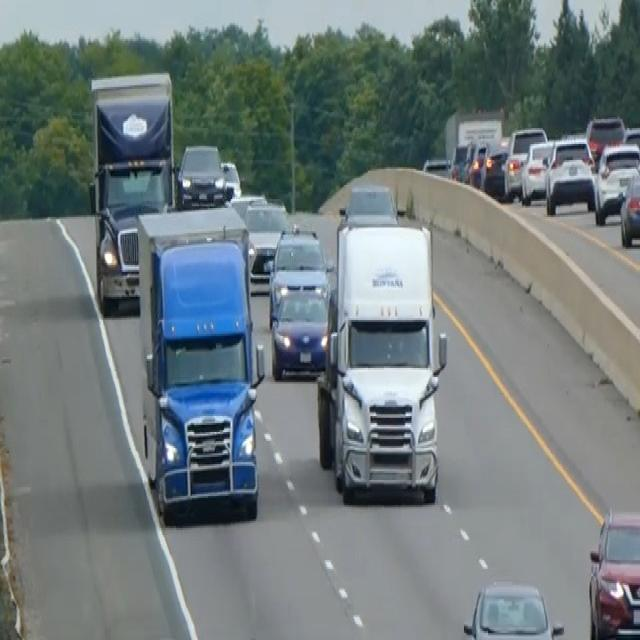car: (267, 222, 333, 380), (587, 505, 639, 638), (462, 576, 564, 638), (544, 135, 596, 215), (244, 197, 288, 290), (593, 140, 639, 224), (175, 140, 228, 208), (503, 125, 547, 199), (337, 180, 398, 230), (519, 138, 554, 204), (585, 112, 625, 162), (480, 137, 510, 197), (619, 171, 639, 247), (463, 135, 490, 187), (228, 190, 266, 222), (220, 157, 241, 199), (449, 140, 469, 182), (421, 154, 452, 180)
lorry: (135, 204, 265, 521), (315, 210, 448, 505)
